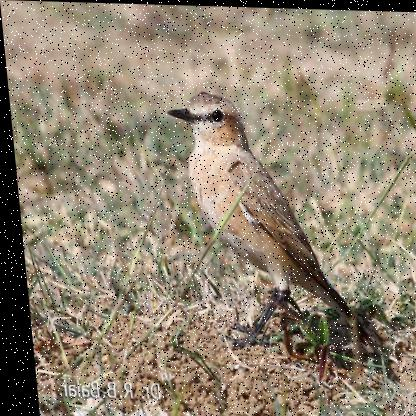Burung: (158, 84, 370, 371)
